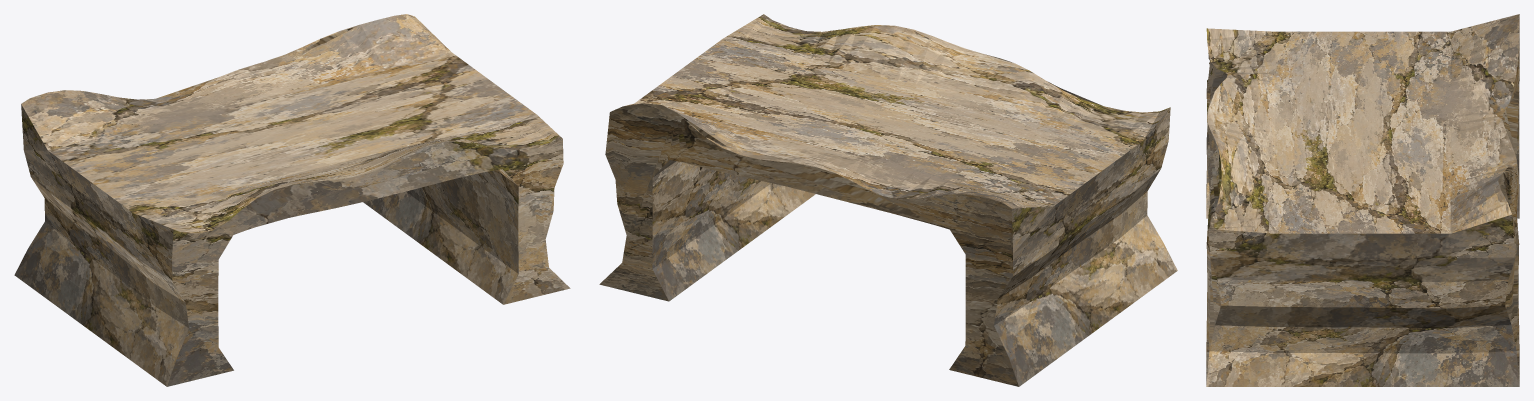
File: small-runtime.obj
The picture shows the model from 3 angles, left to right: view 1: azimuth 30°, elevation 25°; view 2: azimuth 150°, elevation 25°; view 3: azimuth 270°, elevation 25°; orthographic projection. The views are drawn at different scales.
Parts seen in each view (by area): view 1: small-runtime; view 2: small-runtime; view 3: small-runtime.
Part boxes in pixels (x1,y1,x2,y2): small-runtime: [14, 14, 570, 386]; small-runtime: [599, 14, 1177, 386]; small-runtime: [1206, 14, 1519, 386].
Size of the model in its own units: 6 by 2.51 by 3.93.
Materials: 1 (1 with a texture image).
